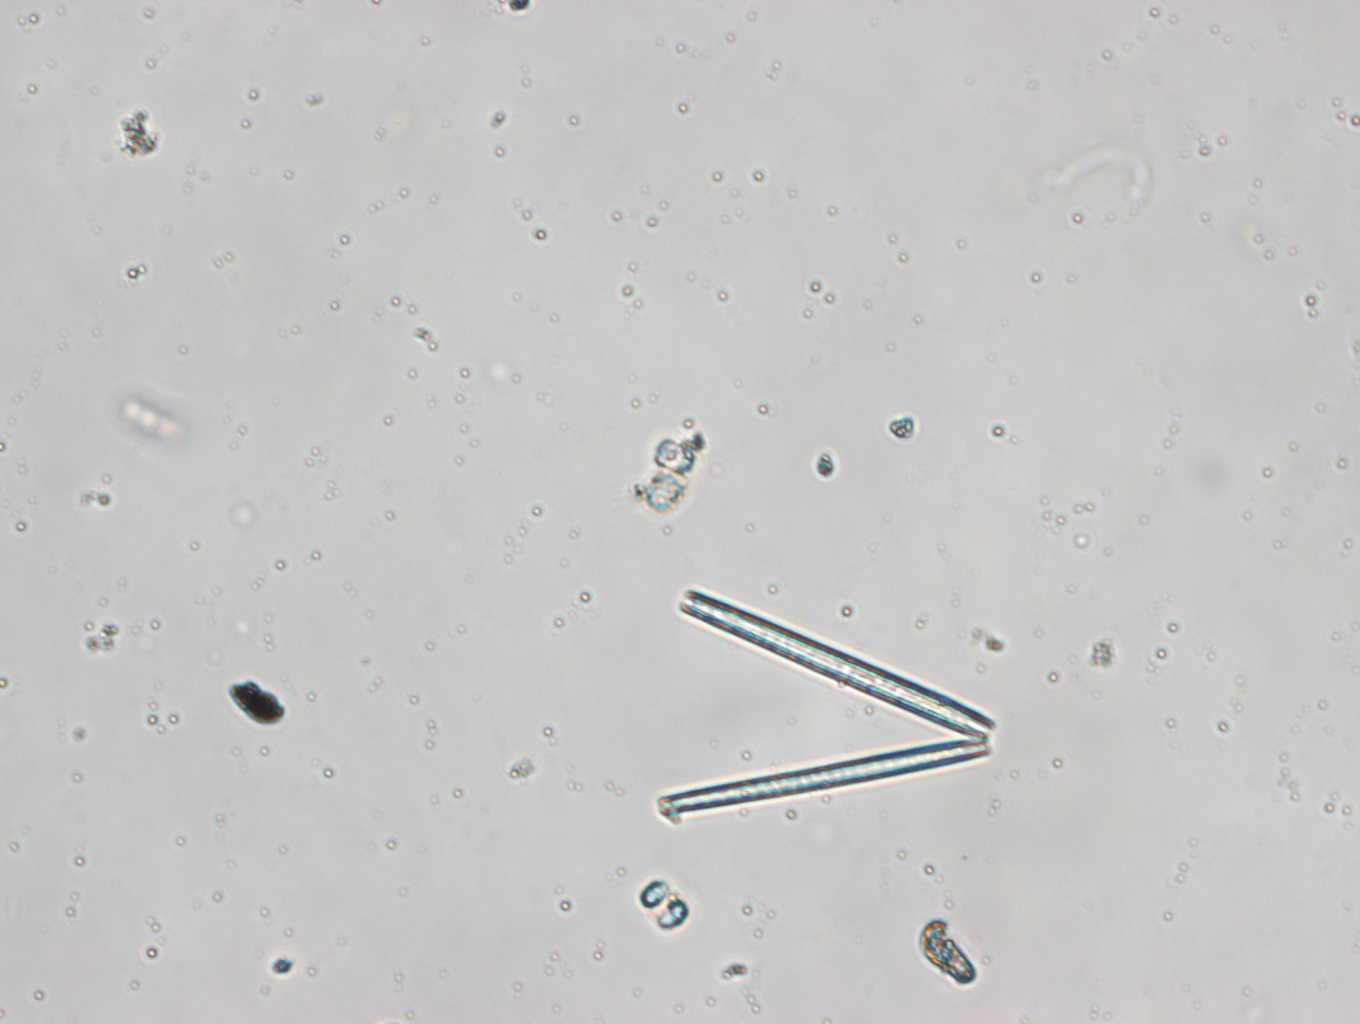thalassionema nitzschioides: (655, 587, 997, 820)
